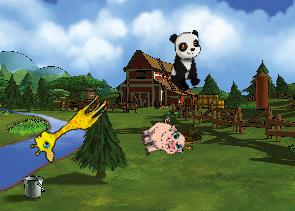giraffe: (26, 83, 112, 167)
panda: (168, 30, 203, 91)
pig: (137, 115, 187, 163)
